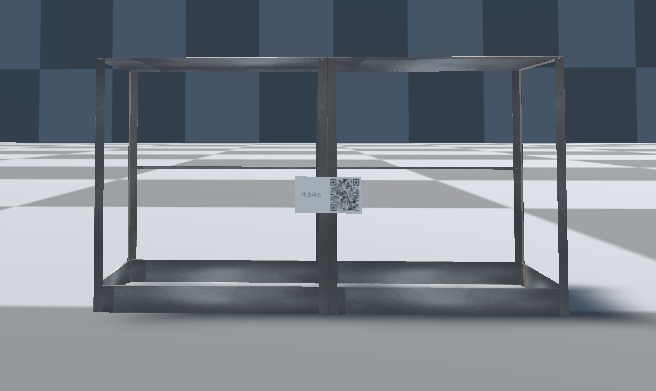Rack: (92, 52, 570, 321)
